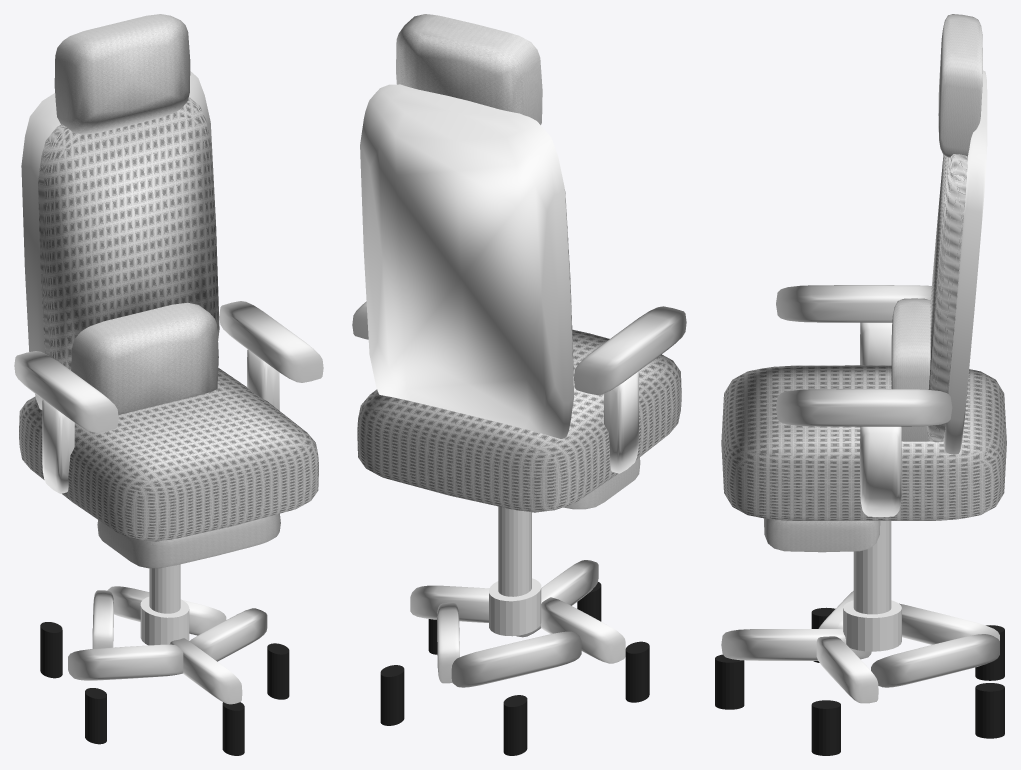
3 views of the same model, side by side, from view 1: azimuth 30°, elevation 25°; view 2: azimuth 150°, elevation 25°; view 3: azimuth 270°, elevation 25° (orthographic). The views are drawn at different scales.
Parts seen in each view (by area): view 1: 3 backrest, 1 seat, 5 headrest, 6 lumbar_pillow, 4 backrest_frame, 2 footrest, 8 armrest_pad_right, 7 armrest_pad_left, 14 base_spoke_front_left, 9 armrest_support_left, 15 base_spoke_front_right, 13 base_spoke_front (+9 smaller); view 2: 4 backrest_frame, 1 seat, 5 headrest, 7 armrest_pad_left, 16 base_spoke_back_left, 11 gas_lift, 14 base_spoke_front_left, 9 armrest_support_left, 15 base_spoke_front_right, 12 base_hub, 13 base_spoke_front, 17 base_spoke_back_right (+5 smaller); view 3: 1 seat, 4 backrest_frame, 8 armrest_pad_right, 3 backrest, 5 headrest, 7 armrest_pad_left, 17 base_spoke_back_right, 6 lumbar_pillow, 10 armrest_support_right, 2 footrest, 13 base_spoke_front, 11 gas_lift (+8 smaller).
Part boxes in pixels (box(x1,y1,x2,y2)): 3 backrest: box(38, 97, 219, 370); 1 seat: box(19, 368, 318, 541); 5 headrest: box(54, 14, 190, 134); 6 lumbar_pillow: box(71, 302, 218, 414); 4 backrest_frame: box(21, 71, 219, 409); 2 footrest: box(97, 513, 280, 568); 8 armrest_pad_right: box(219, 301, 323, 382); 7 armrest_pad_left: box(14, 351, 118, 432); 14 base_spoke_front_left: box(68, 644, 183, 680); 9 armrest_support_left: box(42, 399, 74, 493); 15 base_spoke_front_right: box(189, 608, 267, 661); 13 base_spoke_front: box(169, 638, 242, 704); 4 backrest_frame: box(360, 84, 574, 438); 1 seat: box(357, 329, 681, 512); 5 headrest: box(396, 14, 542, 124); 7 armrest_pad_left: box(574, 306, 686, 394); 16 base_spoke_back_left: box(451, 631, 581, 687); 11 gas_lift: box(498, 506, 531, 596); 14 base_spoke_front_left: box(540, 597, 625, 663); 9 armrest_support_left: box(604, 371, 638, 473); 15 base_spoke_front_right: box(410, 585, 489, 622); 12 base_hub: box(489, 578, 541, 636); 13 base_spoke_front: box(516, 560, 598, 637); 17 base_spoke_back_right: box(437, 602, 459, 683); 1 seat: box(721, 365, 1006, 520); 4 backrest_frame: box(943, 70, 987, 454); 8 armrest_pad_right: box(776, 389, 952, 426); 3 backrest: box(927, 154, 967, 442); 5 headrest: box(938, 14, 982, 157); 7 armrest_pad_left: box(776, 285, 931, 322); 17 base_spoke_back_right: box(871, 634, 999, 687); 6 lumbar_pillow: box(891, 298, 930, 441); 10 armrest_support_right: box(860, 426, 901, 517); 2 footrest: box(764, 518, 880, 552); 13 base_spoke_front: box(721, 629, 871, 660); 11 gas_lift: box(853, 521, 891, 614).
Size of the model in its own units: 0.5151 by 1.34 by 0.5301.
Materials: 9 (4 with a texture image).
